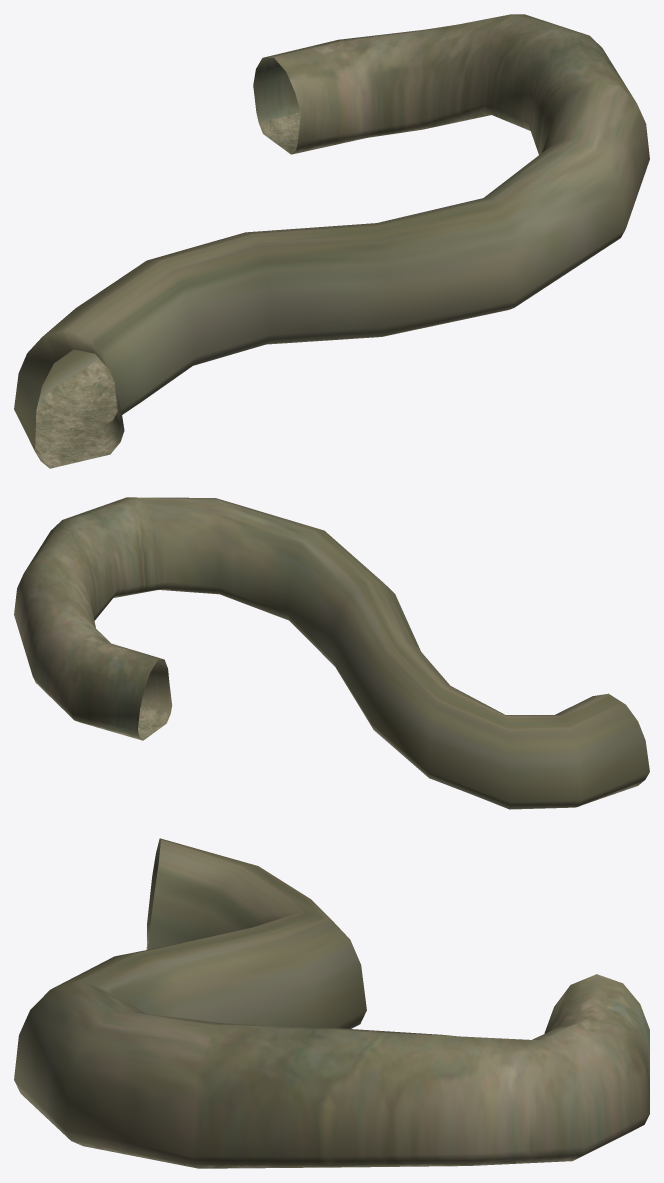
Rendered from OVERHILL_A_01_CM_TUNNEL_08.fbx.
3 views of the same model, one above another, from view 1: azimuth 30°, elevation 25°; view 2: azimuth 150°, elevation 25°; view 3: azimuth 270°, elevation 25° (orthographic). The views are drawn at different scales.
Visible parts, largest first — view 1: OVERHILL_A_01_CM_TUNNEL_08; view 2: OVERHILL_A_01_CM_TUNNEL_08; view 3: OVERHILL_A_01_CM_TUNNEL_08.
Part boxes in pixels (x1,y1,x2,y2): OVERHILL_A_01_CM_TUNNEL_08: (14, 14, 649, 468); OVERHILL_A_01_CM_TUNNEL_08: (14, 497, 649, 809); OVERHILL_A_01_CM_TUNNEL_08: (14, 838, 649, 1168).
Bounding box in the file's own units: 236166 × 80518 × 156398.
1 material, 1 textured.
